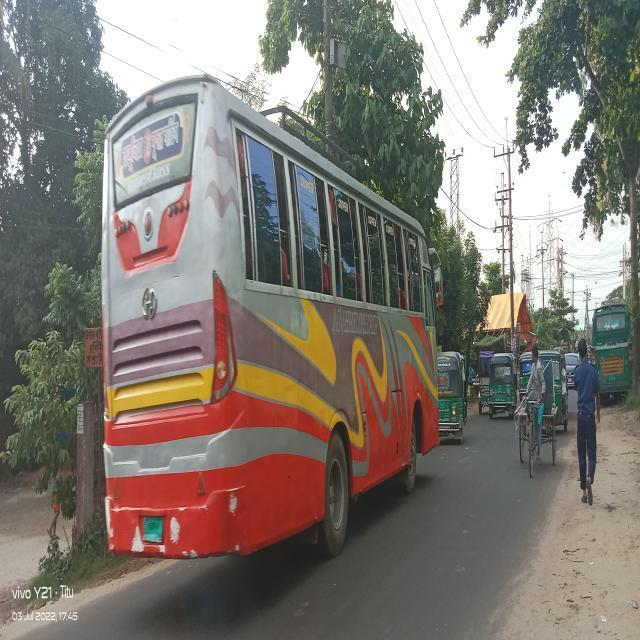Bus: (83, 46, 448, 561)
